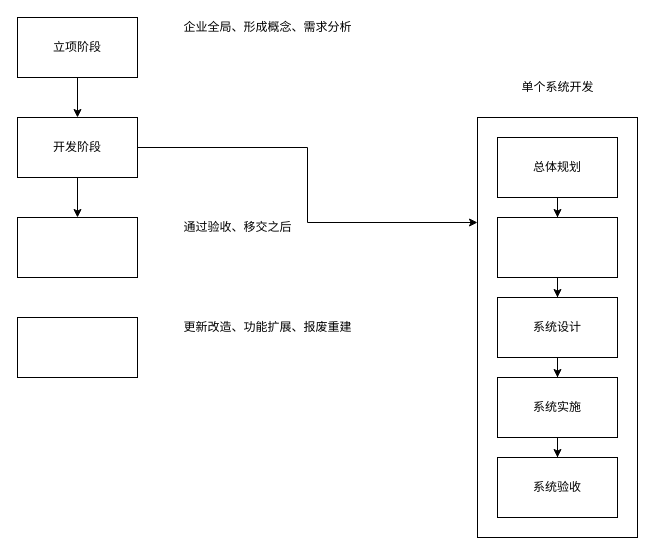
The diagram is 655 pixels wide and 555 high, and some of its shapes have lost their labels. The shapes that lost their labels are listed below. From the top down, each one's box as (x1, y1, x2, y2) in pixels, then its label:
(16, 216, 138, 278): 运维阶段
(496, 216, 618, 278): 系统分析
(16, 316, 138, 378): 消亡阶段
